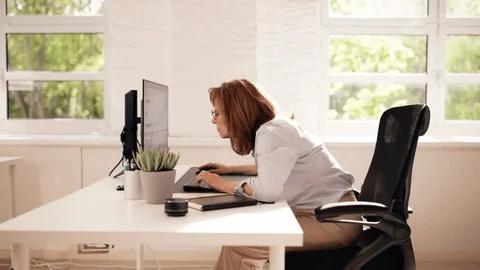Bad Sitting Posture: (154, 51, 381, 242)
